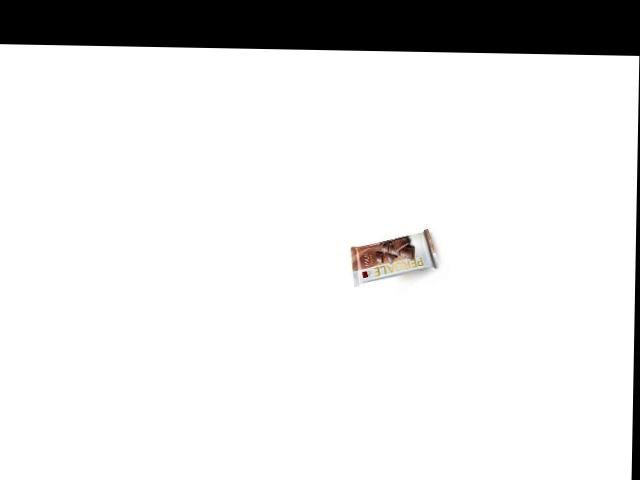chocolate: (349, 221, 432, 289)
